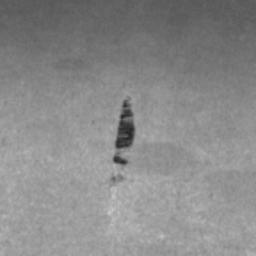Secondary rust skin: (111, 95, 134, 182)
